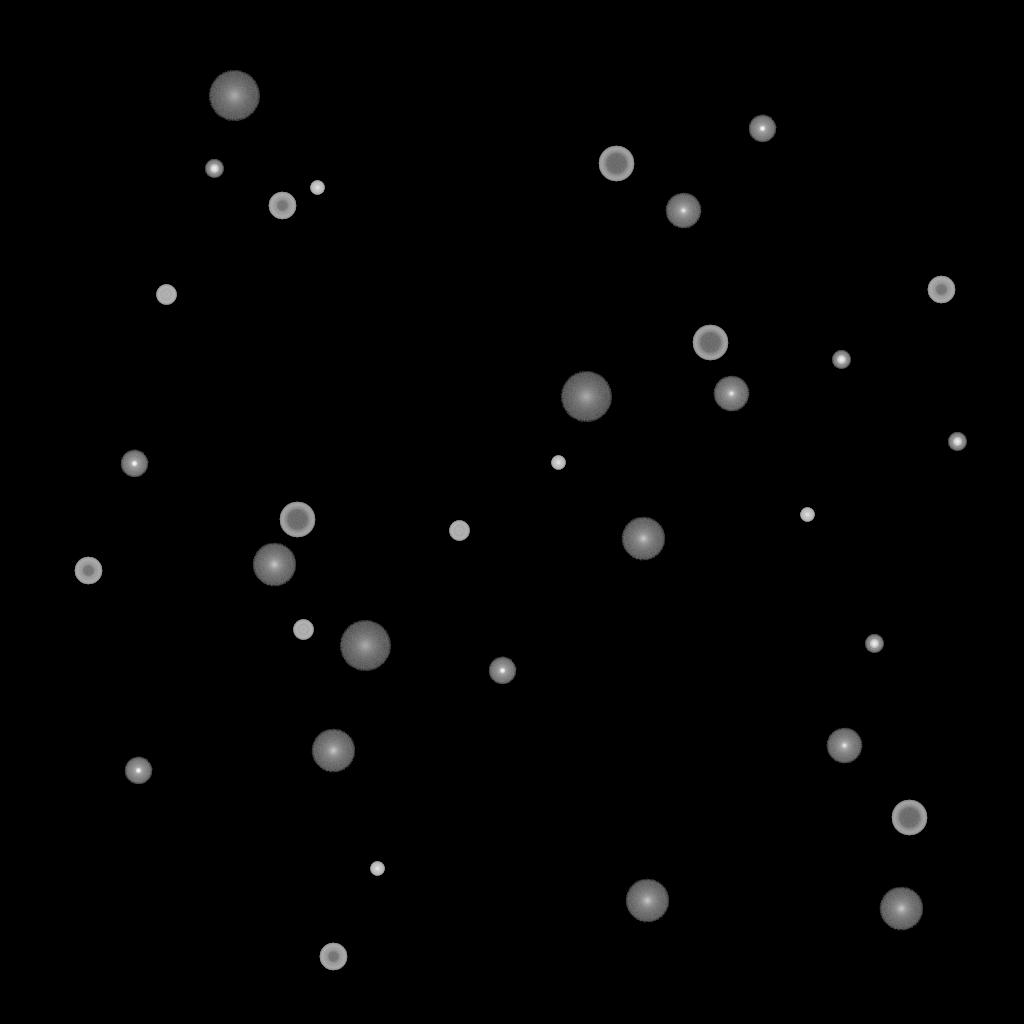depth:-10: (120, 450, 148, 478), (748, 115, 776, 143), (488, 657, 516, 685), (124, 757, 152, 785)
depth:-20: (865, 635, 883, 653), (205, 160, 223, 178), (948, 433, 966, 451), (832, 351, 850, 369)
depth:-30: (310, 181, 324, 195), (800, 508, 814, 522), (551, 456, 565, 470), (370, 862, 384, 876)
depth:-40: (449, 521, 469, 541), (156, 285, 176, 305), (293, 620, 313, 640)
depth:-50: (927, 276, 955, 304), (268, 192, 296, 220), (319, 943, 347, 971), (74, 557, 102, 585)
depth:-60: (279, 502, 315, 538), (598, 146, 634, 182), (891, 800, 927, 836), (692, 325, 728, 361)
depth:0: (665, 193, 701, 229), (713, 376, 749, 412), (826, 728, 862, 764)
depth:10: (252, 543, 296, 587), (879, 887, 923, 931), (621, 517, 665, 561), (311, 729, 355, 773), (625, 879, 669, 923)
depth:20: (339, 621, 391, 671), (560, 372, 612, 422), (208, 71, 260, 121)
